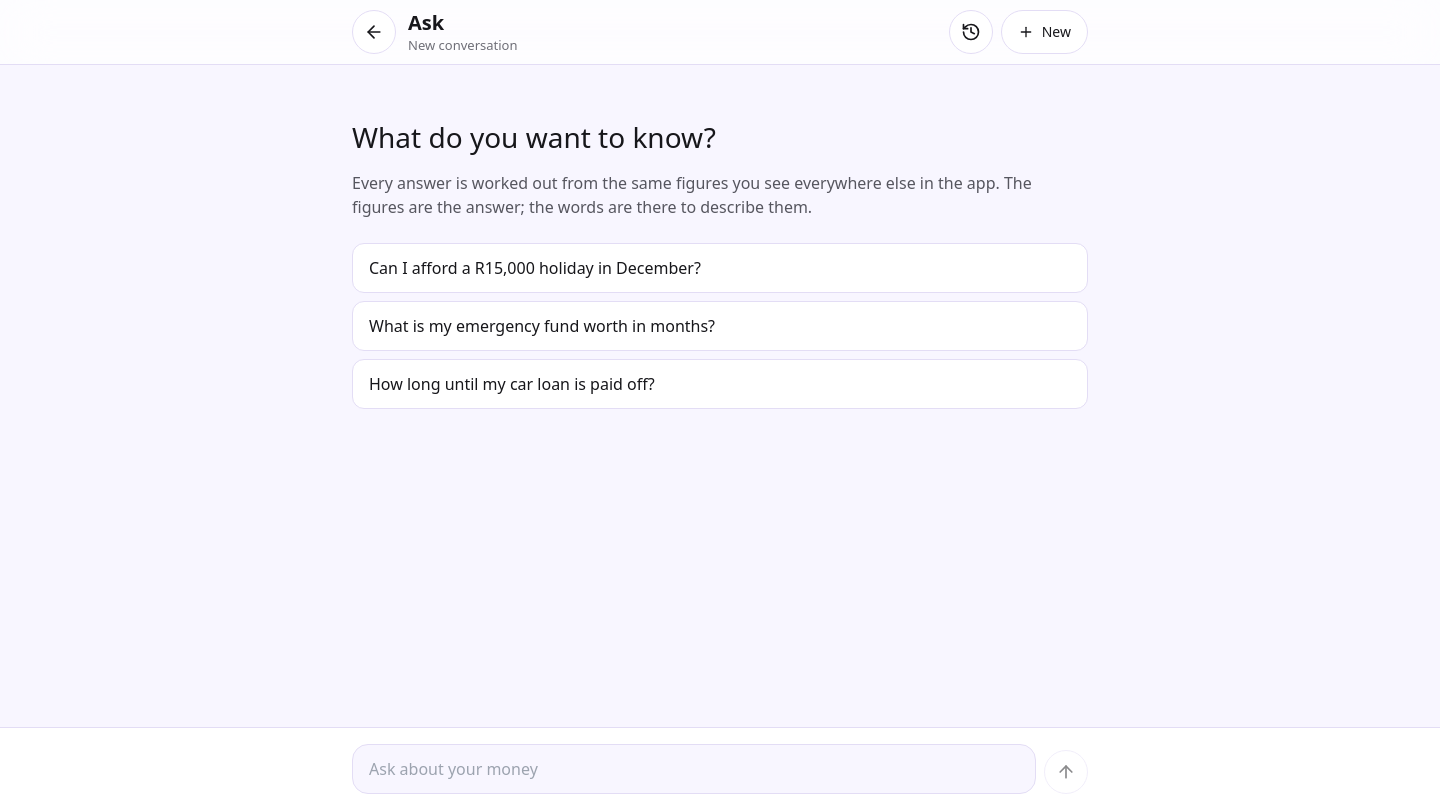
it: ChatView › renders the question and the figures it was answered with
Type "What is my emergency fund worth in months?" into the text box named "Question".
click(694, 769); type("What is my emergency fund worth in months?")  # box x1=352 y1=744 x2=1036 y2=794
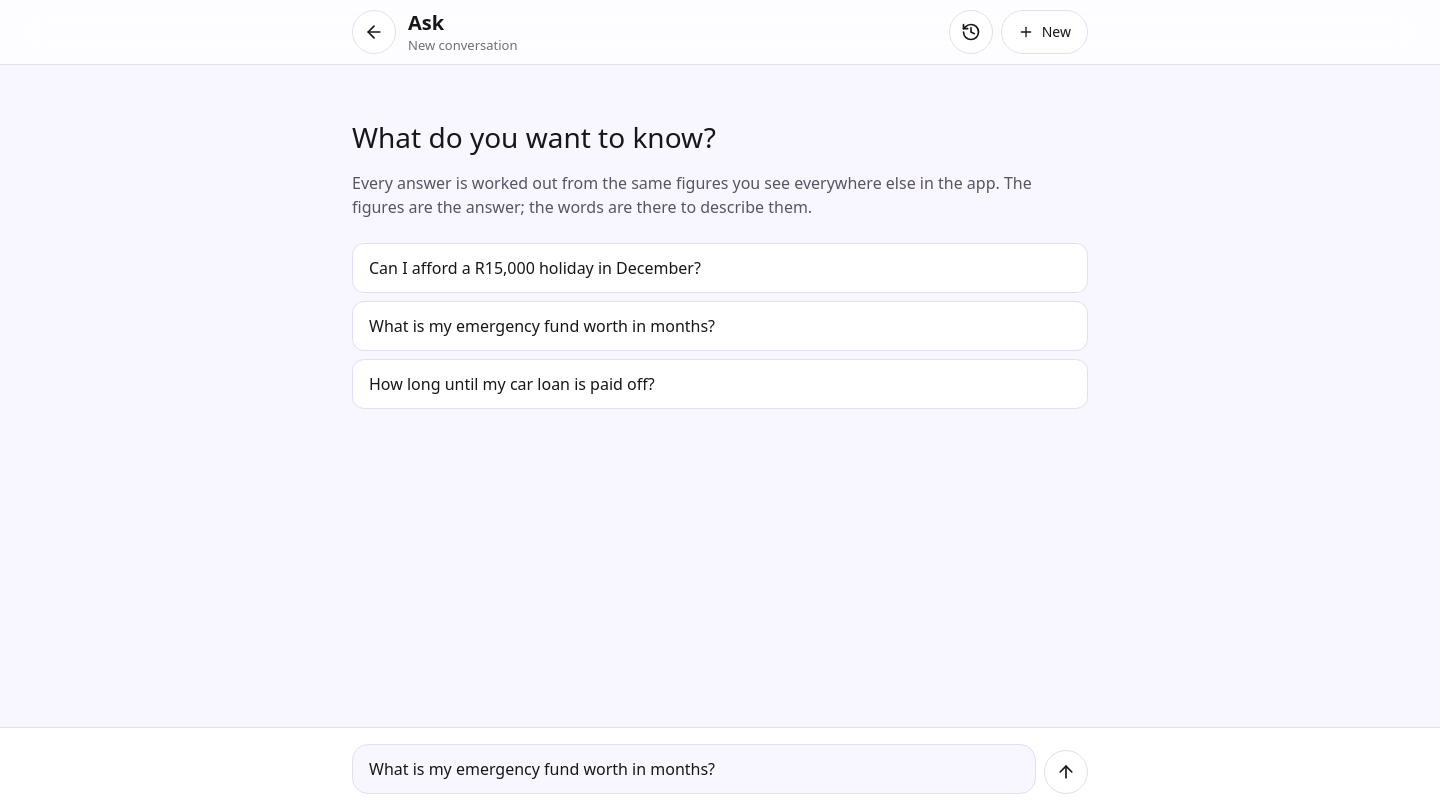
Click the button named "Send".
click(1066, 772)  # box x1=1044 y1=750 x2=1088 y2=794
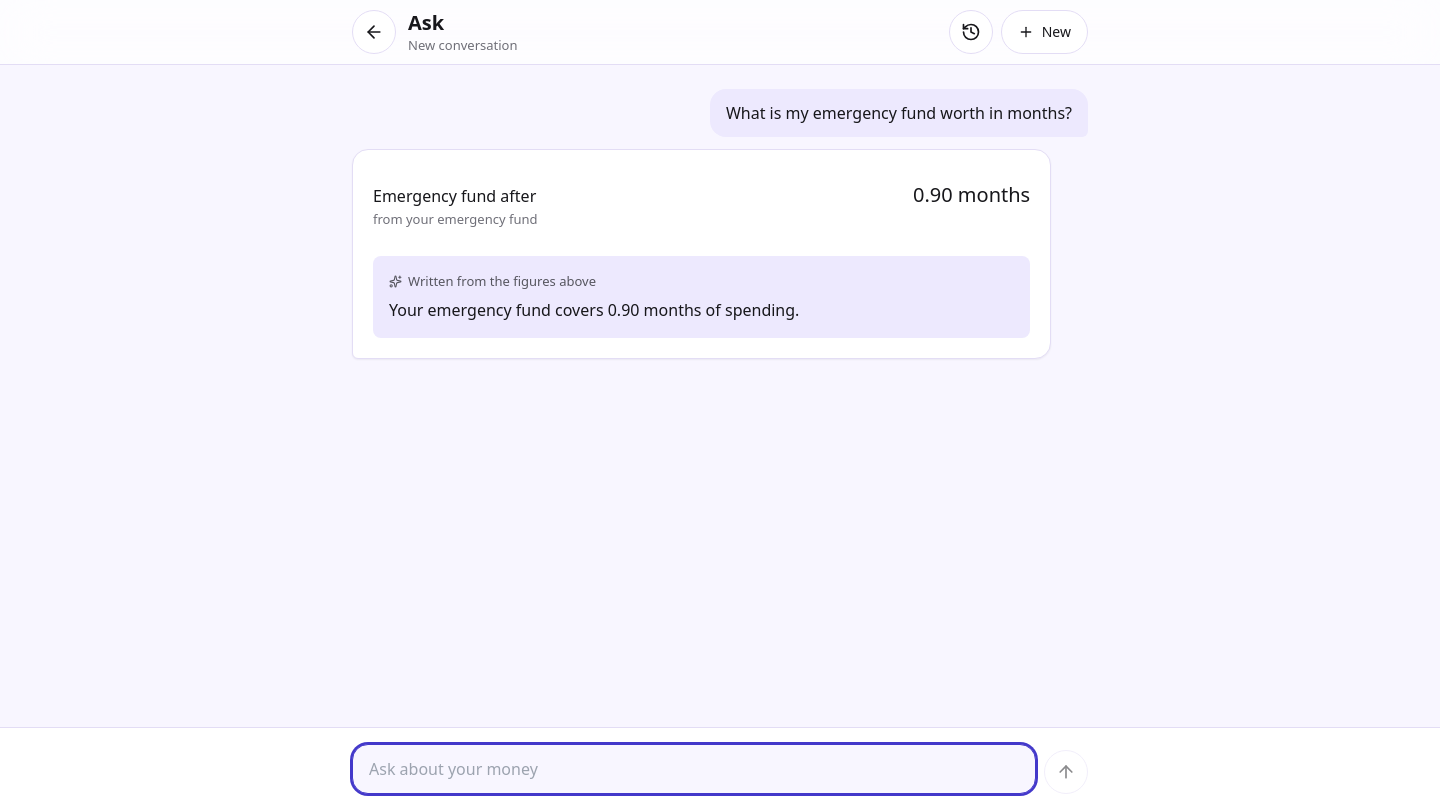
Expected: the text "What is my emergency fund worth in months?" is shown, x1=710 y1=89 x2=1088 y2=137
Now the text "Emergency fund after" is shown, box x1=373 y1=184 x2=538 y2=208
Now the text "from your emergency fund" is shown, box x1=373 y1=210 x2=538 y2=228
